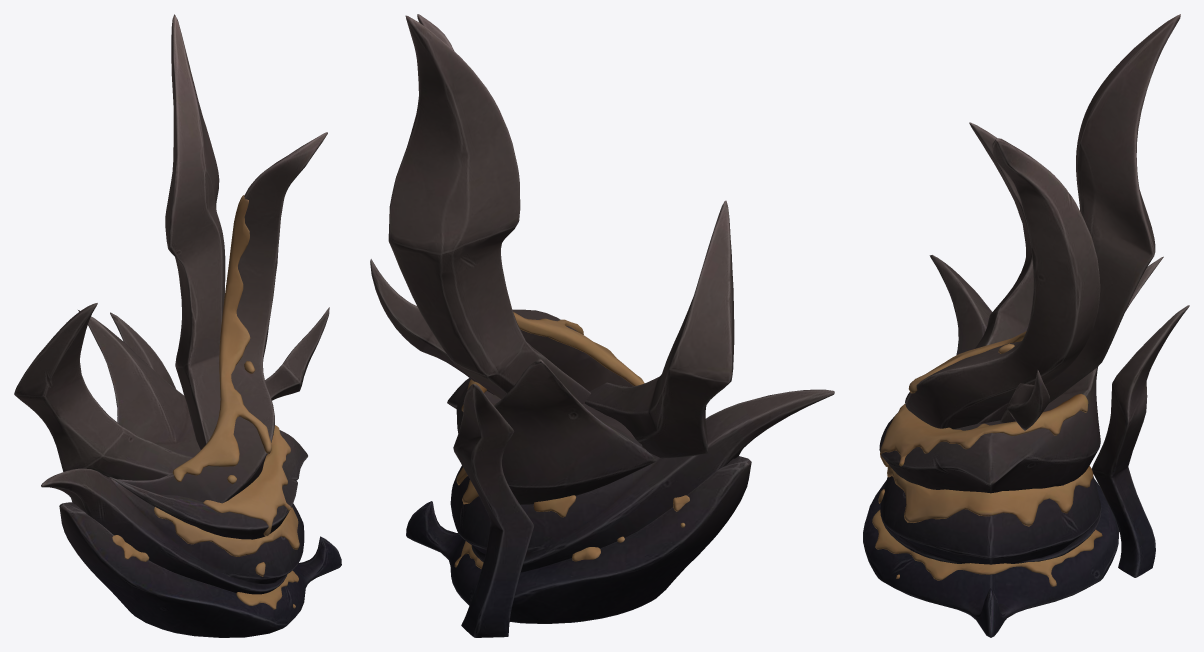
File: obsidian_tower_02_a.glb
3 renders of one model, left to right at view 1: azimuth 30°, elevation 25°; view 2: azimuth 150°, elevation 25°; view 3: azimuth 270°, elevation 25°, orthographic. The views are drawn at different scales.
Parts seen in each view (by area): view 1: SM_KC_OBSIDIAN_TOWER_02_A; view 2: SM_KC_OBSIDIAN_TOWER_02_A; view 3: SM_KC_OBSIDIAN_TOWER_02_A.
Boxes of the visible parts, x1,y1,x2,y2 form: SM_KC_OBSIDIAN_TOWER_02_A: [14, 14, 341, 637]; SM_KC_OBSIDIAN_TOWER_02_A: [370, 14, 834, 637]; SM_KC_OBSIDIAN_TOWER_02_A: [863, 14, 1189, 637].
Bounding box in the file's own units: 27.61 × 40.22 × 20.56.
1 material, 1 textured.
